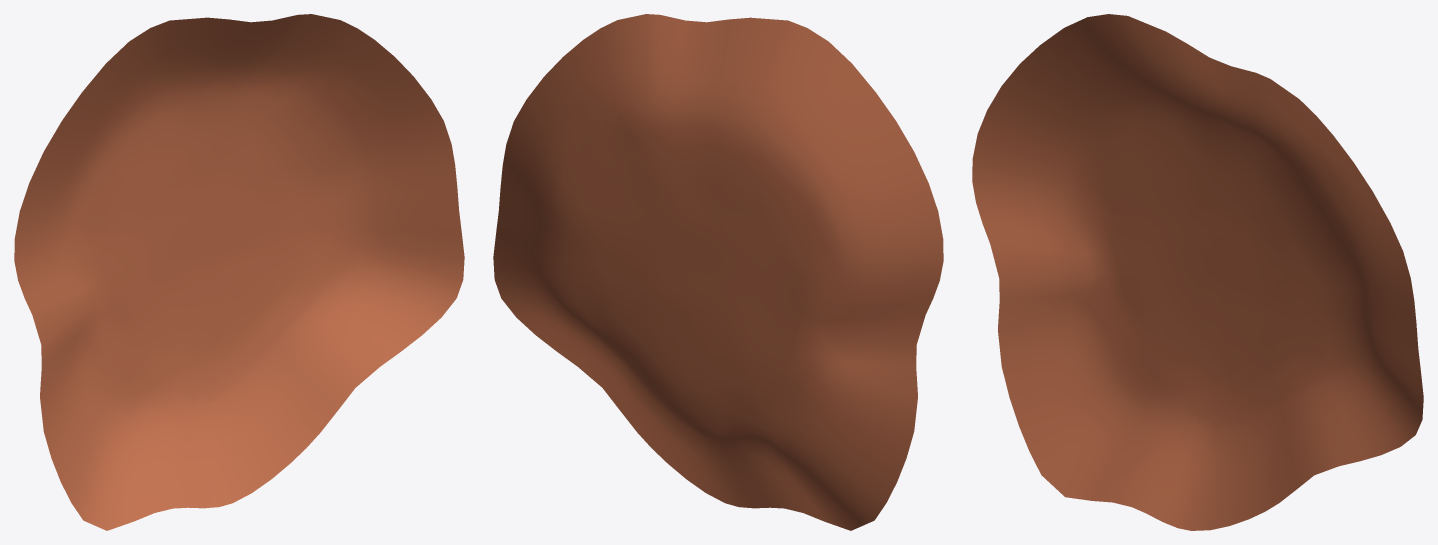
File: Island-Low001.fbx
3 renders of one model, left to right at view 1: azimuth 30°, elevation 25°; view 2: azimuth 150°, elevation 25°; view 3: azimuth 330°, elevation 25°, orthographic.
Visible parts, largest first — view 1: Island-Low001; view 2: Island-Low001; view 3: Island-Low001.
Part boxes in pixels (x1,y1,x2,y2): Island-Low001: [14, 14, 464, 530]; Island-Low001: [493, 14, 943, 530]; Island-Low001: [972, 14, 1423, 530].
Size of the model in its own units: 3731 by 3948 by 403.
